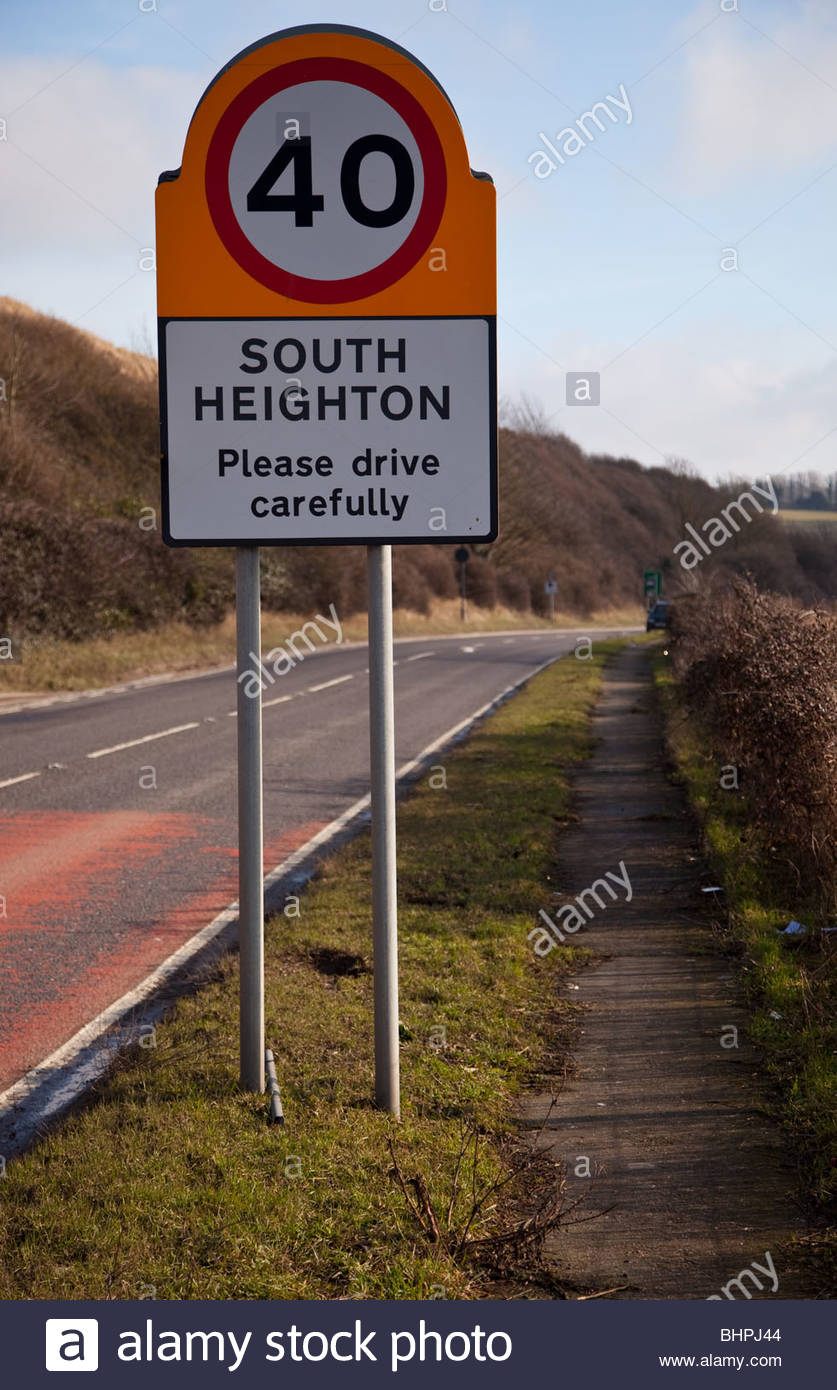Speed_limit_40km: (203, 60, 452, 300)
